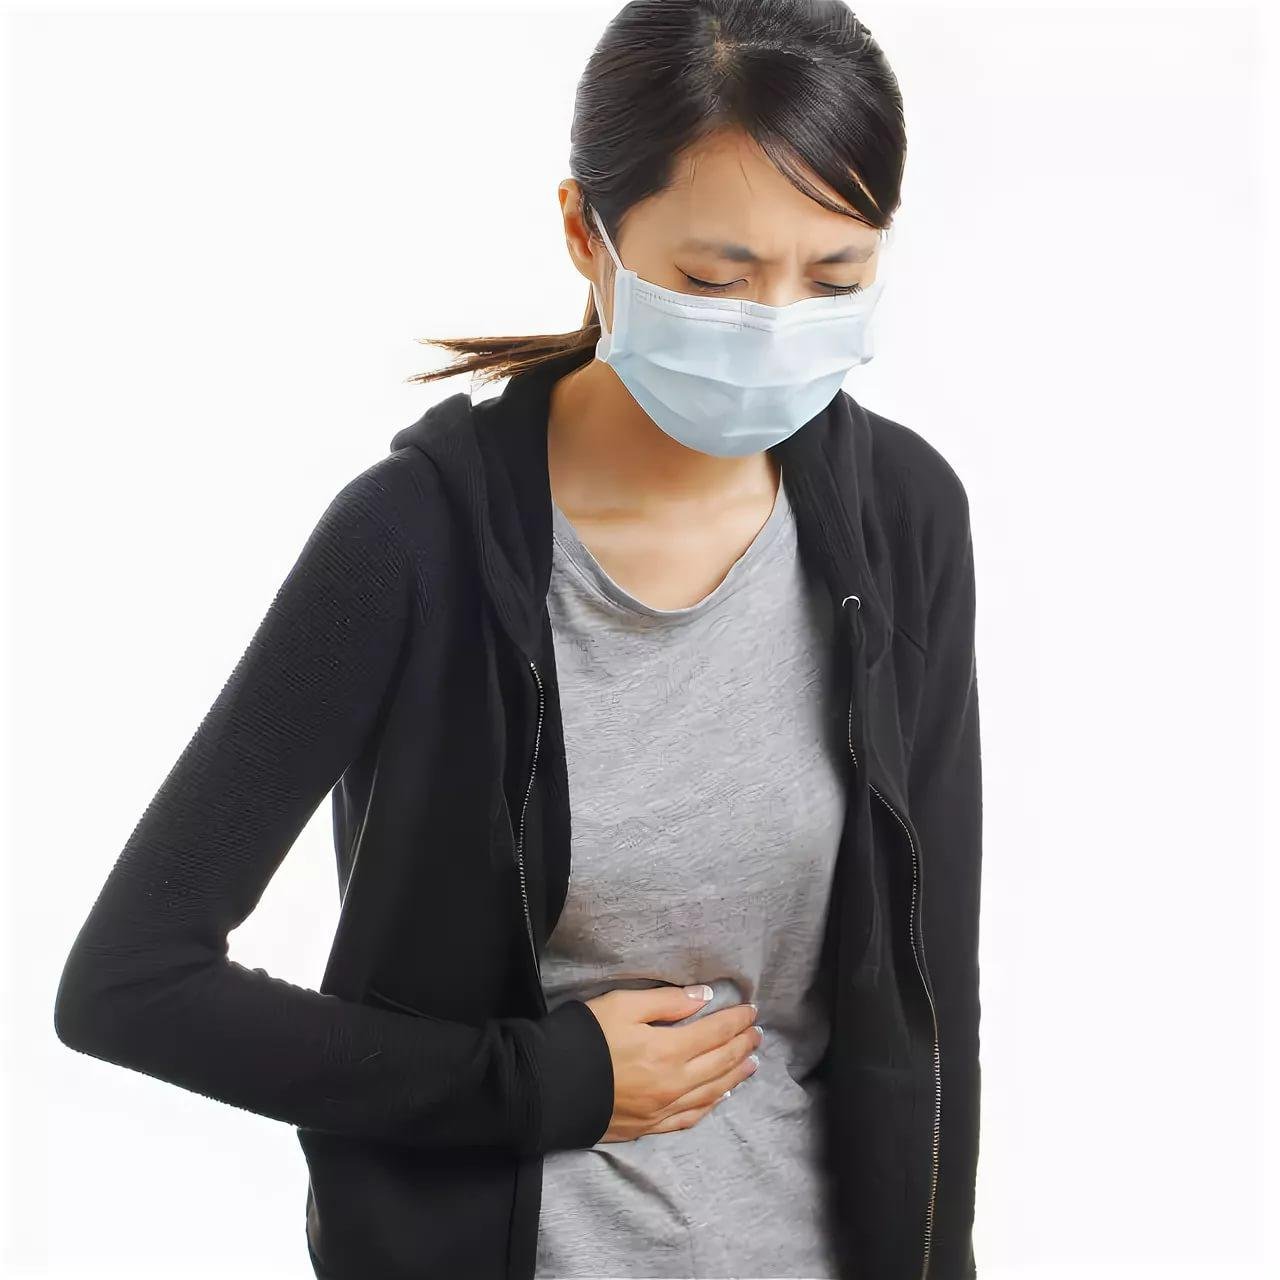mask: (601, 142, 884, 458)
